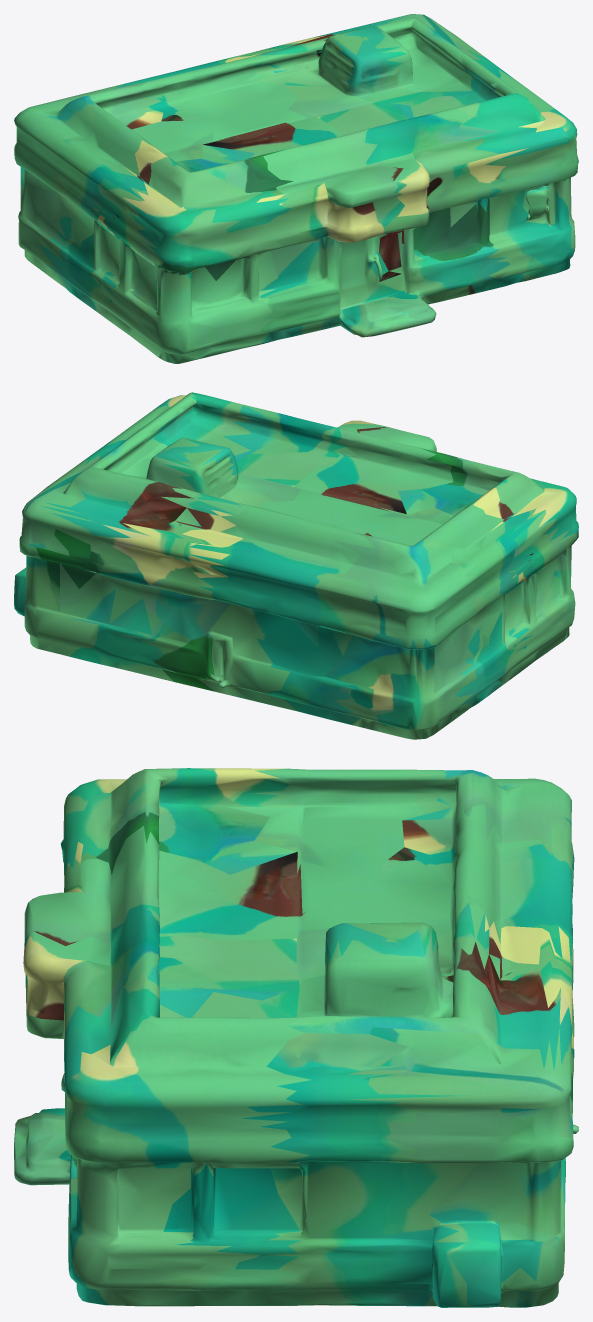
File: diner.fbx
The picture shows the model from 3 angles, top to bottom: view 1: azimuth 30°, elevation 25°; view 2: azimuth 150°, elevation 25°; view 3: azimuth 270°, elevation 25°; orthographic projection. The views are drawn at different scales.
Parts seen in each view (by area): view 1: Mesh_0; view 2: Mesh_0; view 3: Mesh_0.
Part boxes in pixels (x1=…): Mesh_0: x1=14, y1=14, x2=578, y2=363; Mesh_0: x1=14, y1=392, x2=578, y2=739; Mesh_0: x1=14, y1=768, x2=578, y2=1307.
Bounding box in the file's own units: 200 × 79.79 × 143.
